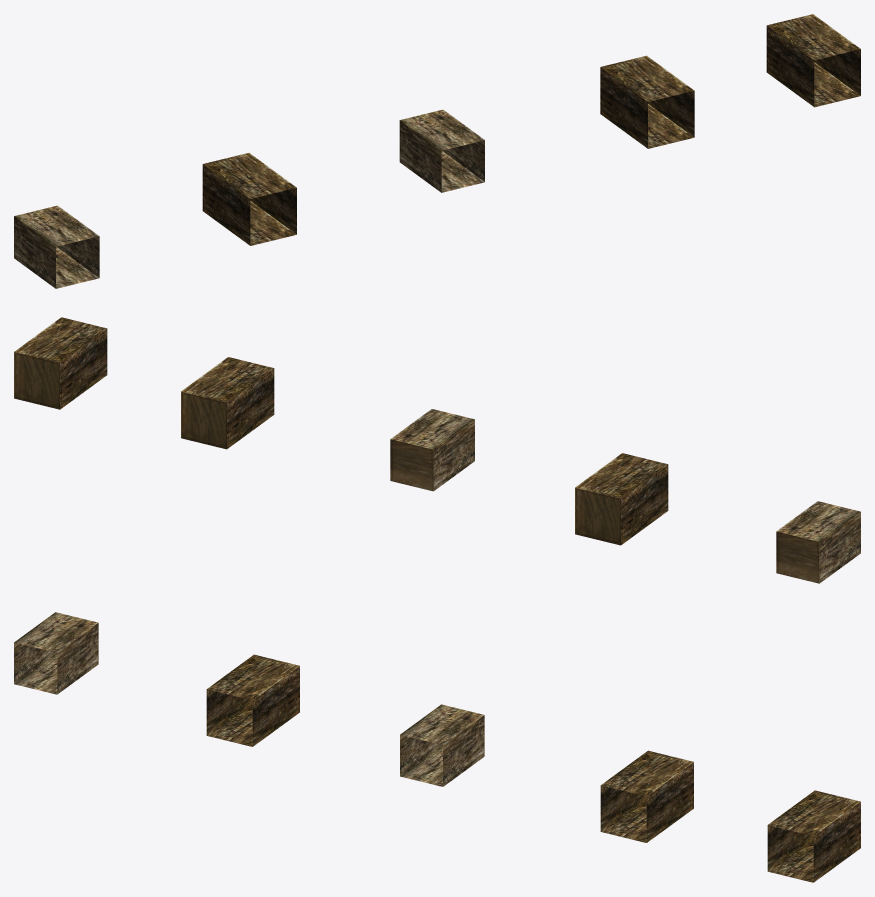
The model's file is hrt_woods1.glb.
3 renders of one model, top to bottom at view 1: azimuth 30°, elevation 25°; view 2: azimuth 150°, elevation 25°; view 3: azimuth 330°, elevation 25°, orthographic.
Visible parts, largest first — view 1: hrt_woods1-col; view 2: hrt_woods1-col; view 3: hrt_woods1-col.
Boxes of the visible parts, <box> form: hrt_woods1-col: <box>14,14,860,288</box>; hrt_woods1-col: <box>14,317,860,583</box>; hrt_woods1-col: <box>14,612,860,882</box>.
Size of the model in its own units: 3.6 by 0.2004 by 0.3783.
Materials: 1 (1 with a texture image).
